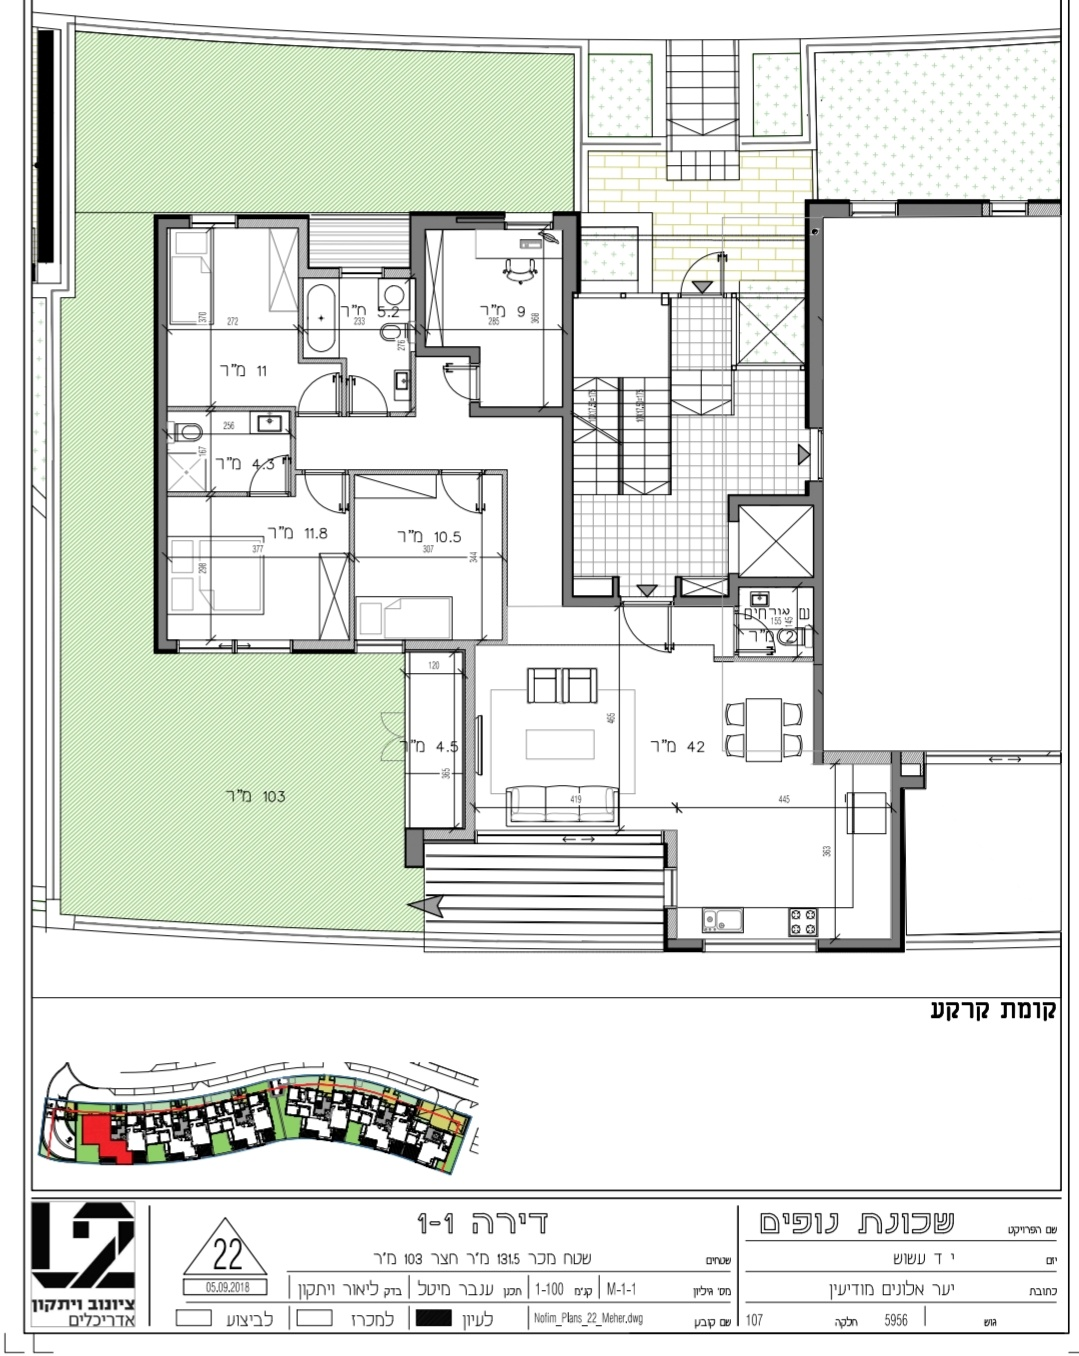door: (440, 480, 489, 531), (417, 362, 466, 413), (299, 475, 348, 524), (297, 369, 340, 411), (347, 367, 388, 408)
wall: (153, 207, 172, 638), (563, 214, 574, 611), (806, 200, 822, 423), (815, 497, 824, 765)
